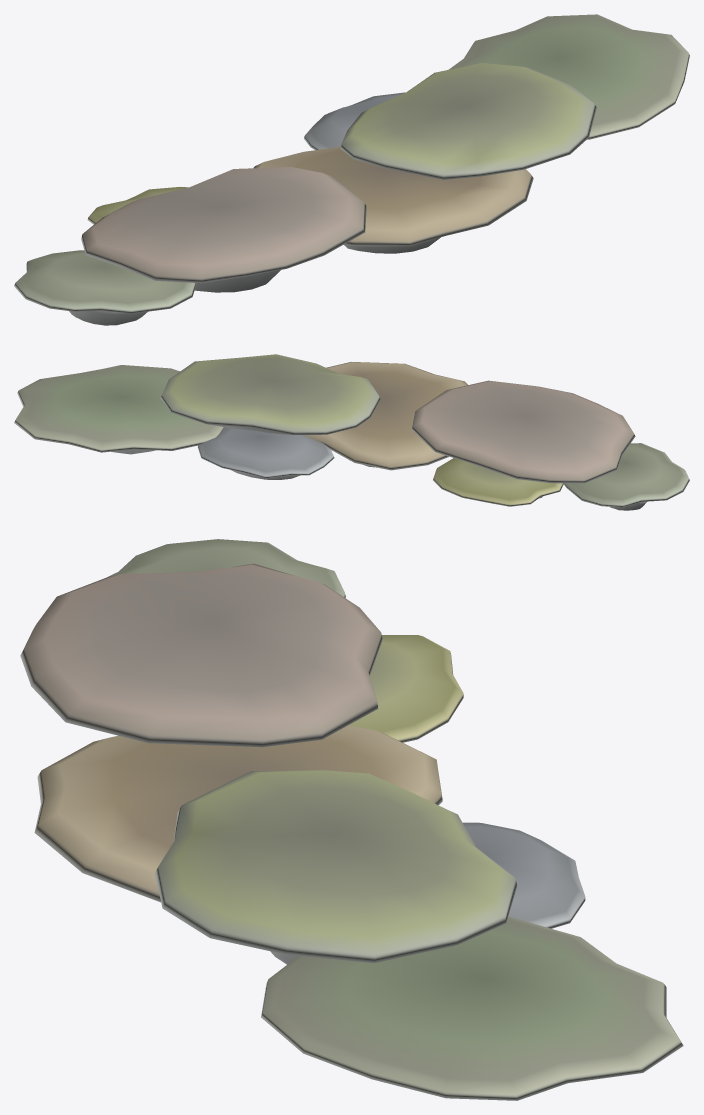
3 renders of one model, top to bottom at view 1: azimuth 30°, elevation 25°; view 2: azimuth 150°, elevation 25°; view 3: azimuth 270°, elevation 25°, orthographic. The views are drawn at different scales.
Visible parts, largest first — view 1: G:\FFXIV-MapTools\exports\n4f6\bg\ex3\01_nvt_n4\fld\n4f6\bgp (×3); view 2: G:\FFXIV-MapTools\exports\n4f6\bg\ex3\01_nvt_n4\fld\n4f6\bgp (×3); view 3: G:\FFXIV-MapTools\exports\n4f6\bg\ex3\01_nvt_n4\fld\n4f6\bgp (×2).
Part boxes in pixels (<box>): G:\FFXIV-MapTools\exports\n4f6\bg\ex3\01_nvt_n4\fld\n4f6\bgp (×3): <box>14,14,689,325</box>; G:\FFXIV-MapTools\exports\n4f6\bg\ex3\01_nvt_n4\fld\n4f6\bgp (×3): <box>14,354,689,510</box>; G:\FFXIV-MapTools\exports\n4f6\bg\ex3\01_nvt_n4\fld\n4f6\bgp (×2): <box>20,539,683,1100</box>.
Size of the model in its own units: 54.75 by 6.09 by 26.61.
